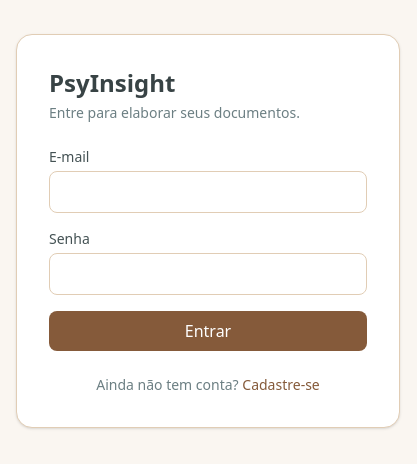
Test case: LoginPage › shows an error message when login fails
Type "ana@example.com" into the field labelled "E-mail" at (208, 192), box [49,171,367,213]
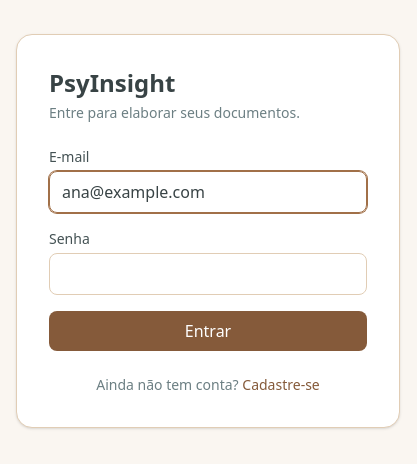
Type "senha-errada" into the password field labelled "Senha" at (208, 274), box [49,253,367,295]
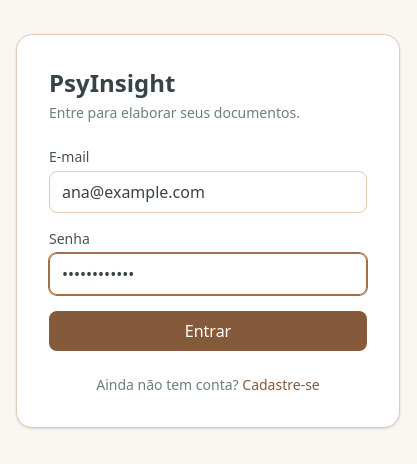
Click the button "Entrar" at (208, 331), box [49,311,367,351]
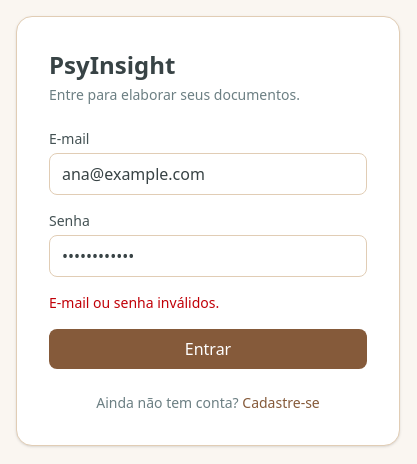
Check: the text "E-mail ou senha inválidos." is shown, box [49,293,219,312]
